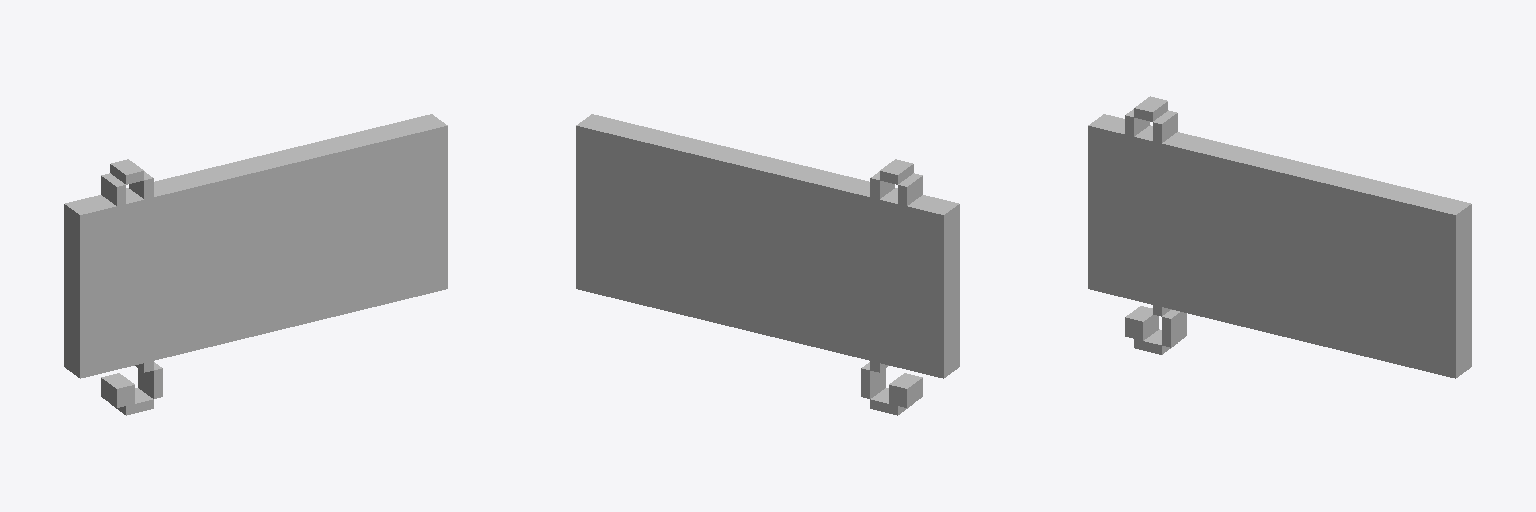
The model's file is staff.obj.
The picture shows the model from 3 angles: view 1: azimuth 30°, elevation 25°; view 2: azimuth 150°, elevation 25°; view 3: azimuth 330°, elevation 25°; orthographic projection.
Parts seen in each view (by area): view 1: object 1; view 2: object 1; view 3: object 1.
Boxes of the visible parts, x1=… form: object 1: x1=64, y1=114, x2=447, y2=415; object 1: x1=576, y1=114, x2=959, y2=415; object 1: x1=1088, y1=96, x2=1471, y2=378.
Bounding box in the file's own units: 4 × 2.5 × 0.3.